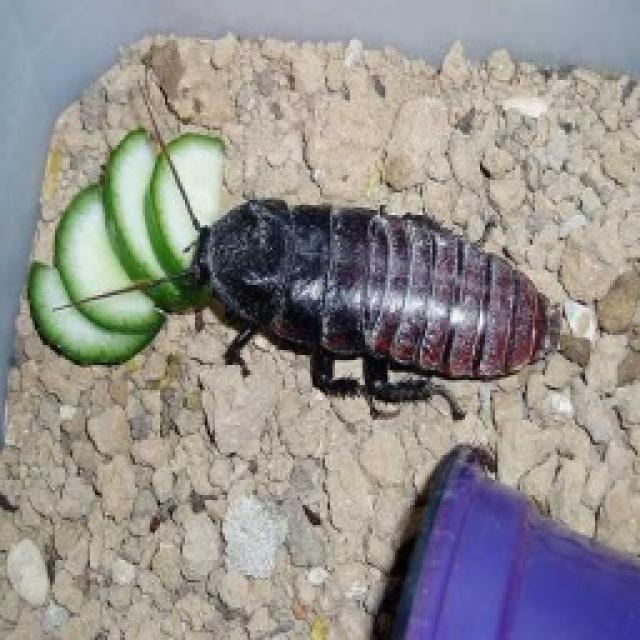cockroach: (121, 181, 578, 421)
